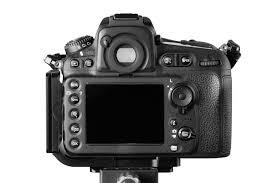camera: (46, 12, 241, 182)
